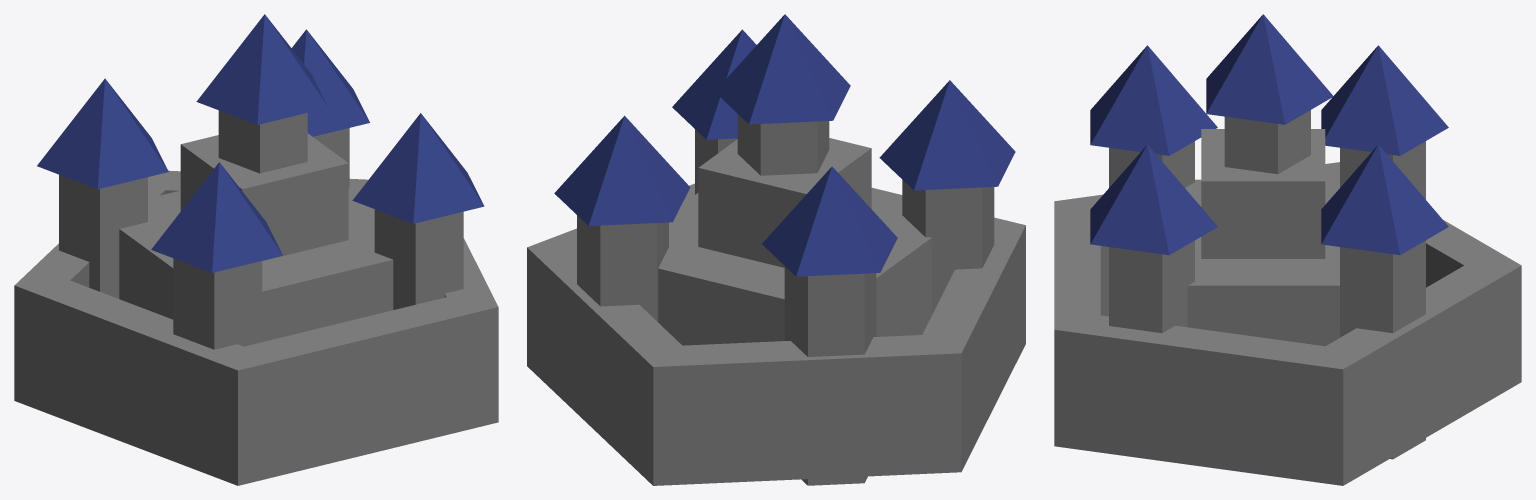
Rendered from castle.fbx.
The picture shows the model from 3 angles, left to right: view 1: azimuth 30°, elevation 25°; view 2: azimuth 150°, elevation 25°; view 3: azimuth 270°, elevation 25°; orthographic projection. The views are drawn at different scales.
Visible parts, largest first — view 1: Circle; view 2: Circle; view 3: Circle.
Part boxes in pixels (box(x1,y1,x2,y2)): Circle: box(14, 14, 498, 485); Circle: box(527, 14, 1025, 485); Circle: box(1054, 14, 1521, 485).
Size of the model in its own units: 141 by 119 by 134.
